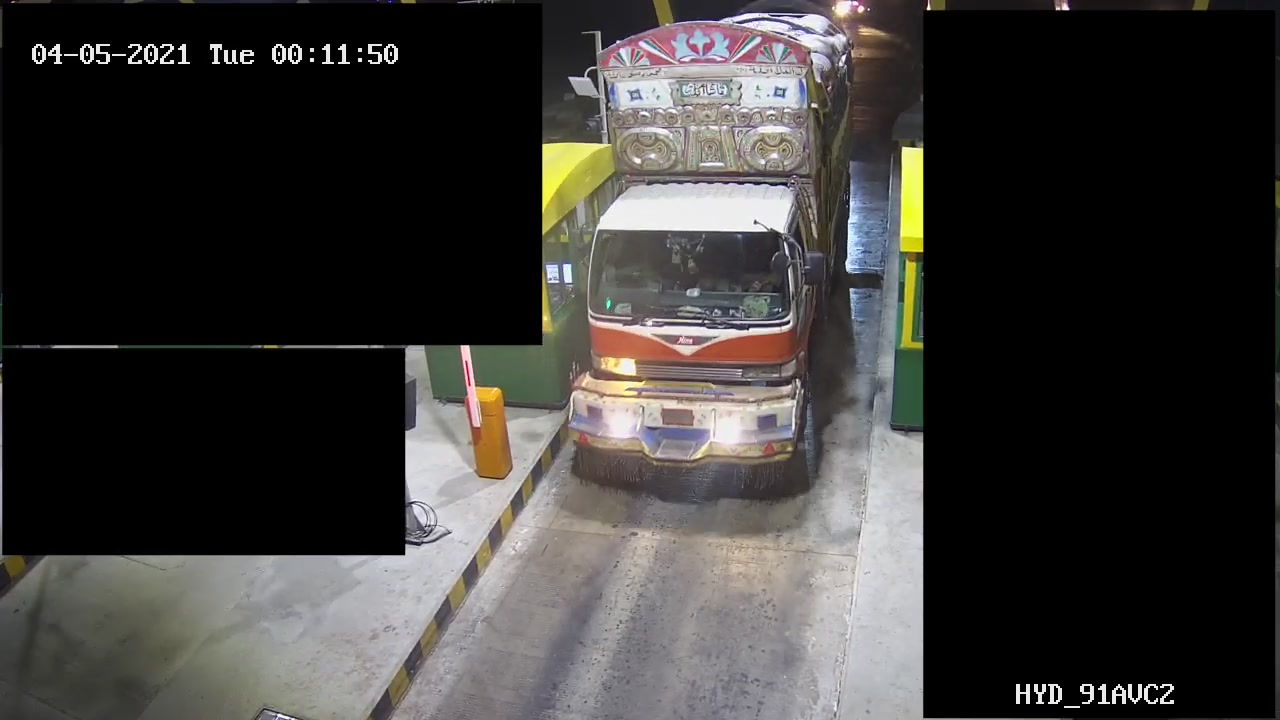F5: (543, 5, 869, 495)
